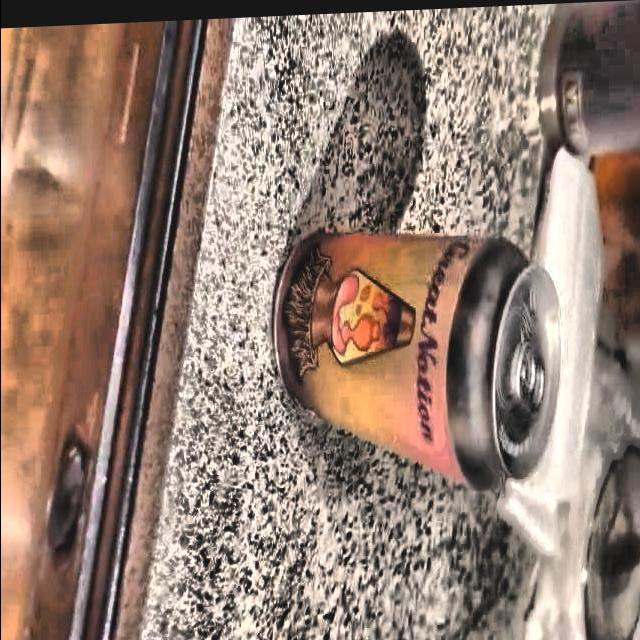Aluminum Can: (266, 205, 575, 510)
